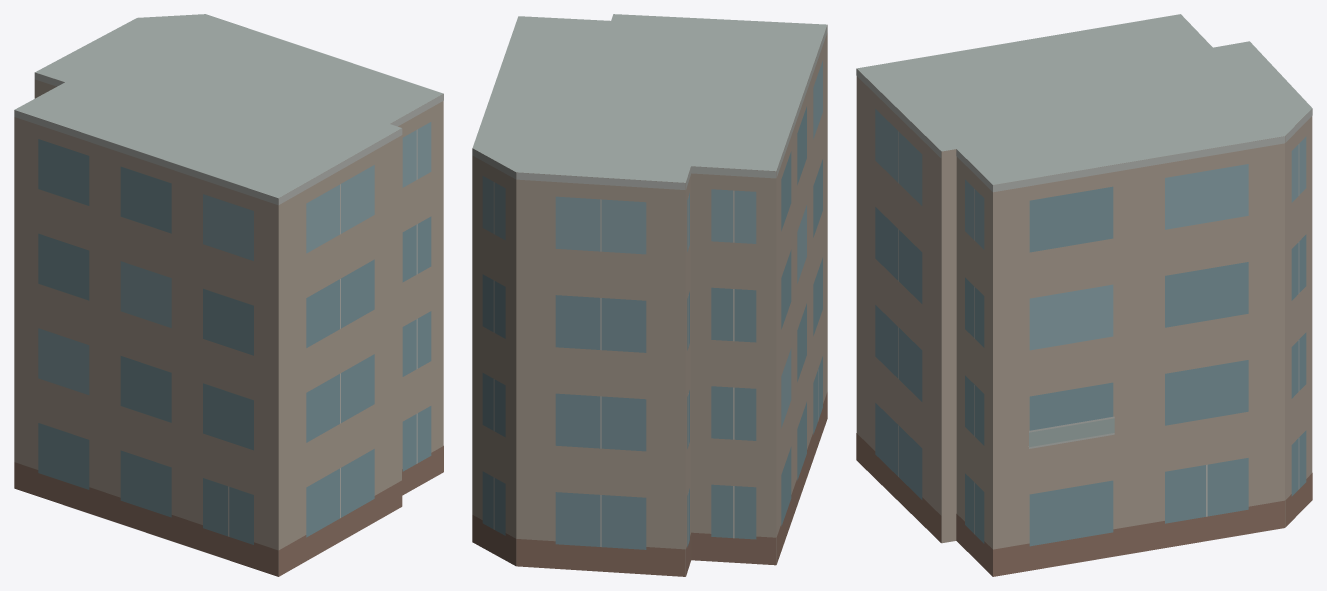
The model's file is survey-upis-32672514.glb.
3 views of the same model, side by side, from view 1: azimuth 30°, elevation 25°; view 2: azimuth 150°, elevation 25°; view 3: azimuth 270°, elevation 25° (orthographic). The views are drawn at different scales.
Parts seen in each view (by area): view 1: survey-upis-32672514.tmp; view 2: survey-upis-32672514.tmp; view 3: survey-upis-32672514.tmp.
Part boxes in pixels (<box>): survey-upis-32672514.tmp: <box>14,14,443,576</box>; survey-upis-32672514.tmp: <box>472,14,827,576</box>; survey-upis-32672514.tmp: <box>856,14,1312,576</box>.
Size of the model in its own units: 12.37 by 13.2 by 13.93.
